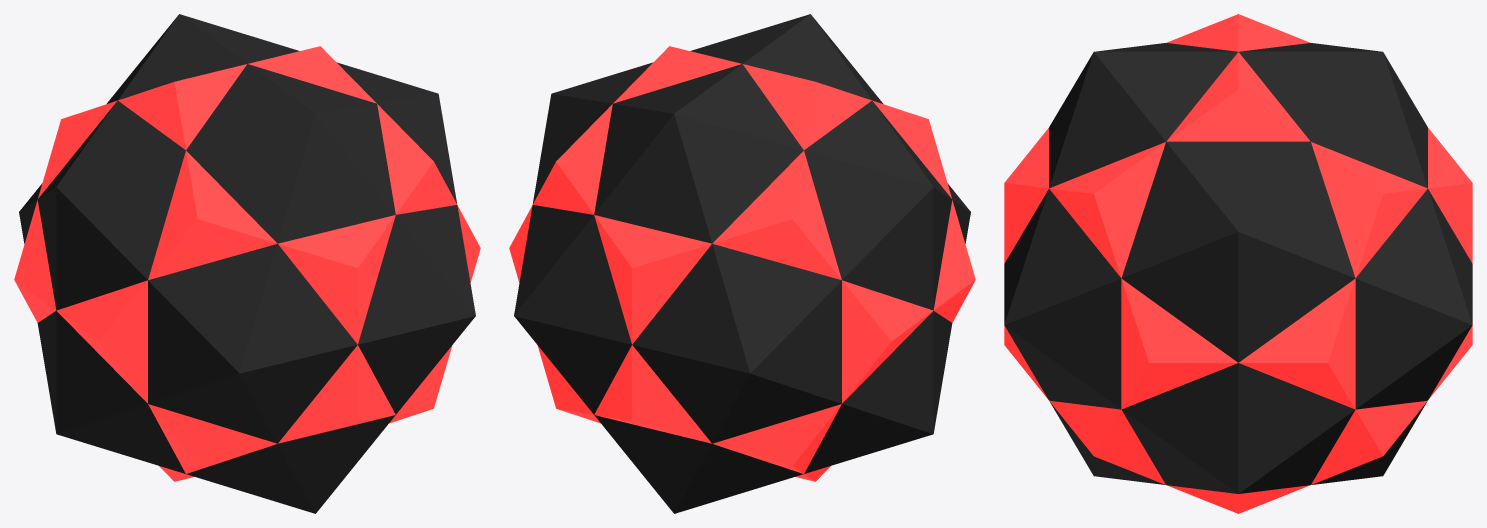
The picture shows the model from 3 angles, left to right: view 1: azimuth 30°, elevation 25°; view 2: azimuth 150°, elevation 25°; view 3: azimuth 270°, elevation 25°; orthographic projection. The views are drawn at different scales.
Parts seen in each view (by area): view 1: Icosaedro_Marco, Dodecaedro_Nucleo; view 2: Icosaedro_Marco, Dodecaedro_Nucleo; view 3: Icosaedro_Marco, Dodecaedro_Nucleo.
Boxes of the visible parts, box(x1,y1,x2,y2) form: Icosaedro_Marco: box(19, 14, 475, 513); Dodecaedro_Nucleo: box(14, 46, 480, 481); Icosaedro_Marco: box(514, 14, 970, 513); Dodecaedro_Nucleo: box(509, 46, 975, 481); Icosaedro_Marco: box(1004, 43, 1472, 493); Dodecaedro_Nucleo: box(1004, 14, 1472, 513).
Bounding box in the file's own units: 6.47 × 6.47 × 6.47.
